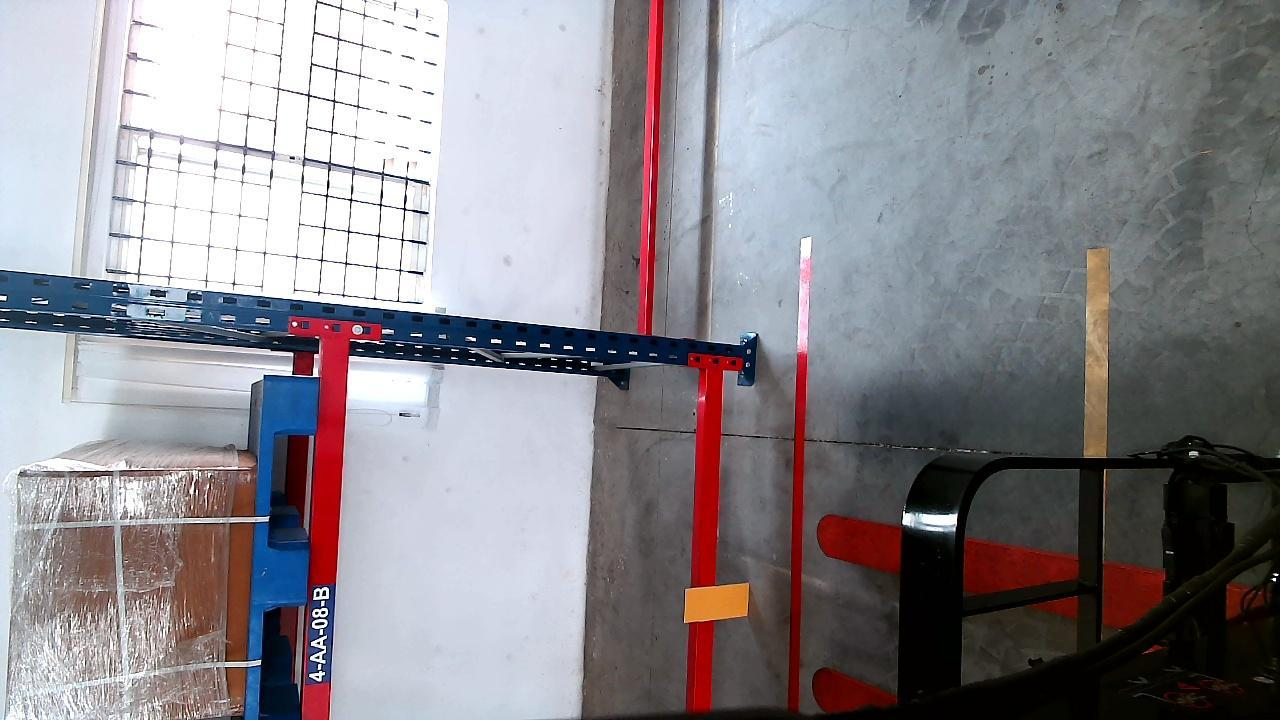red_line: (784, 243, 814, 709)
yellow_line: (1084, 239, 1108, 459)
